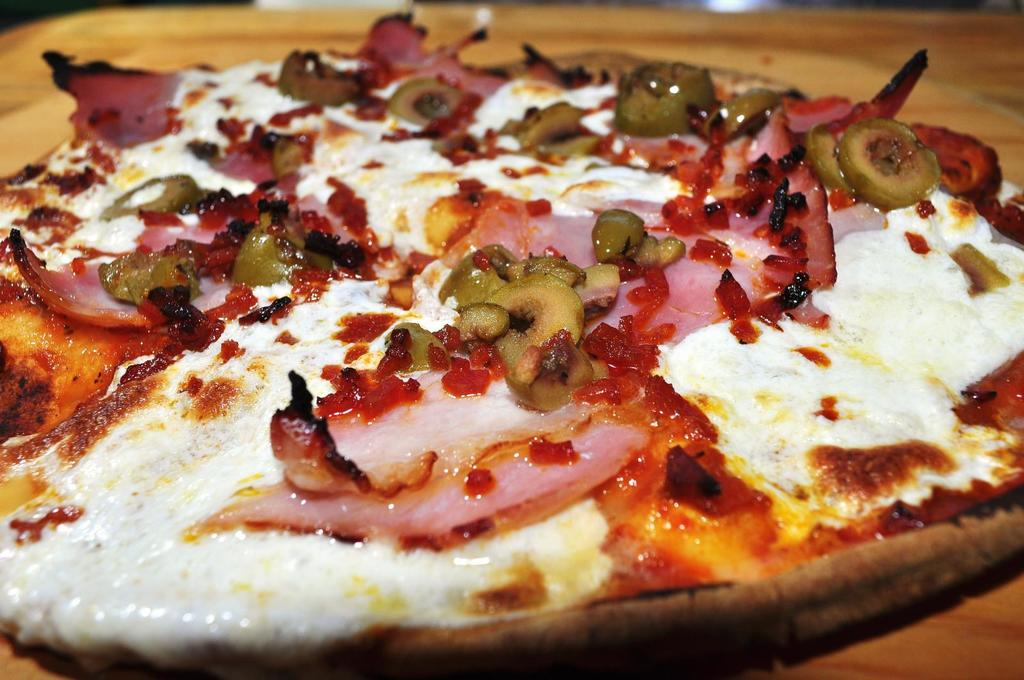Pizza: (8, 21, 1024, 661)
